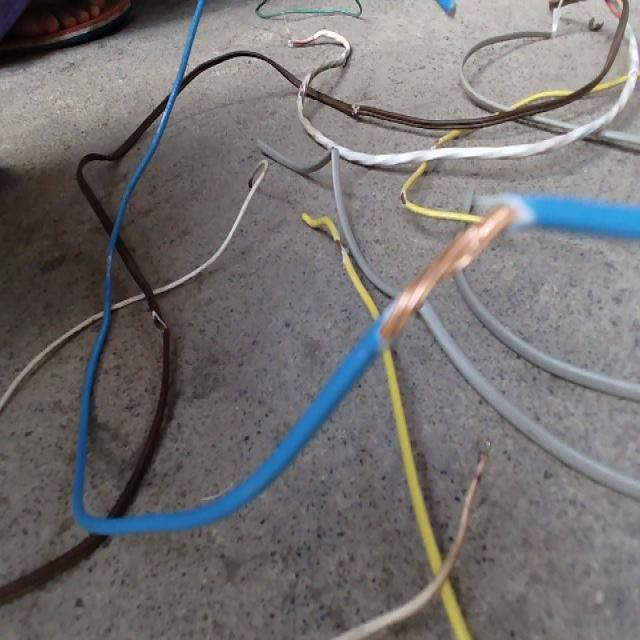-: (377, 202, 520, 338), (149, 307, 168, 332), (335, 234, 346, 258), (399, 188, 407, 207), (297, 81, 305, 99)
